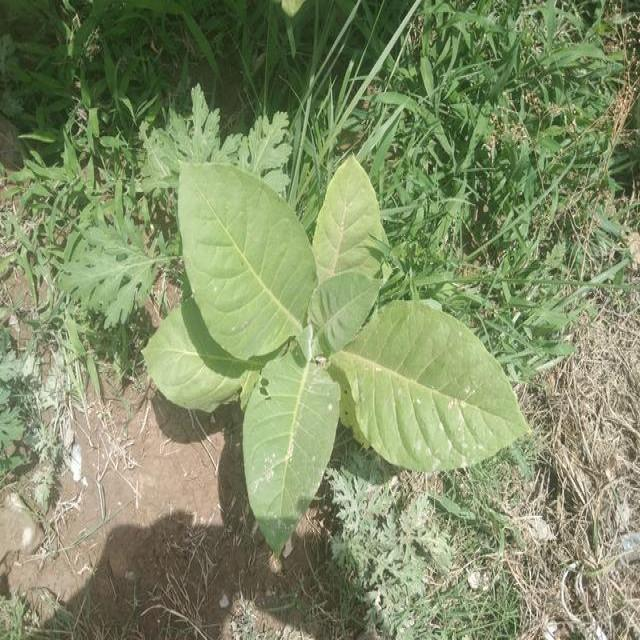crop: (136, 152, 526, 526)
